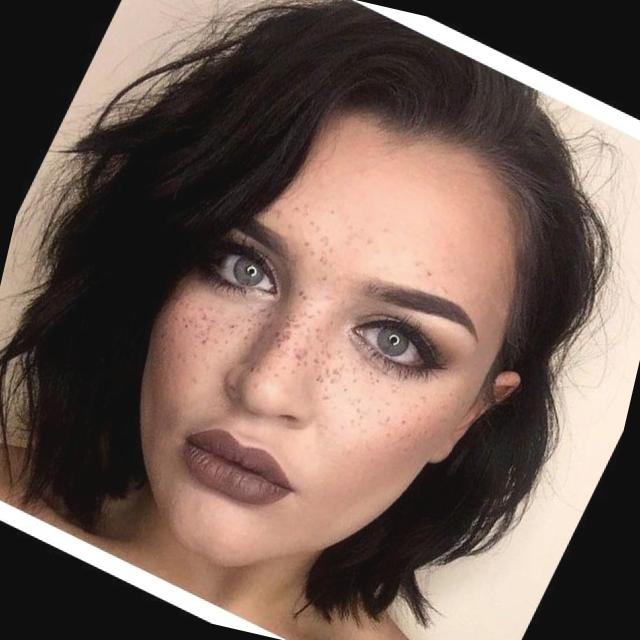freckle: (138, 259, 466, 473), (232, 168, 452, 338)
